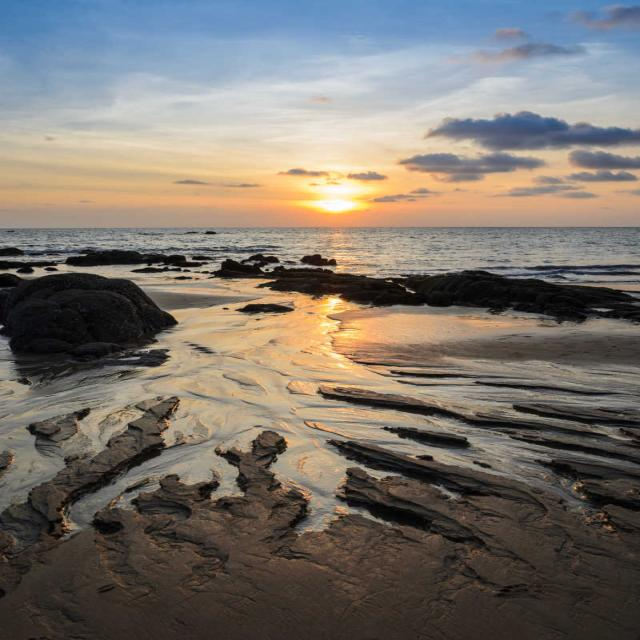reef: (98, 230, 530, 336), (30, 264, 193, 372)
